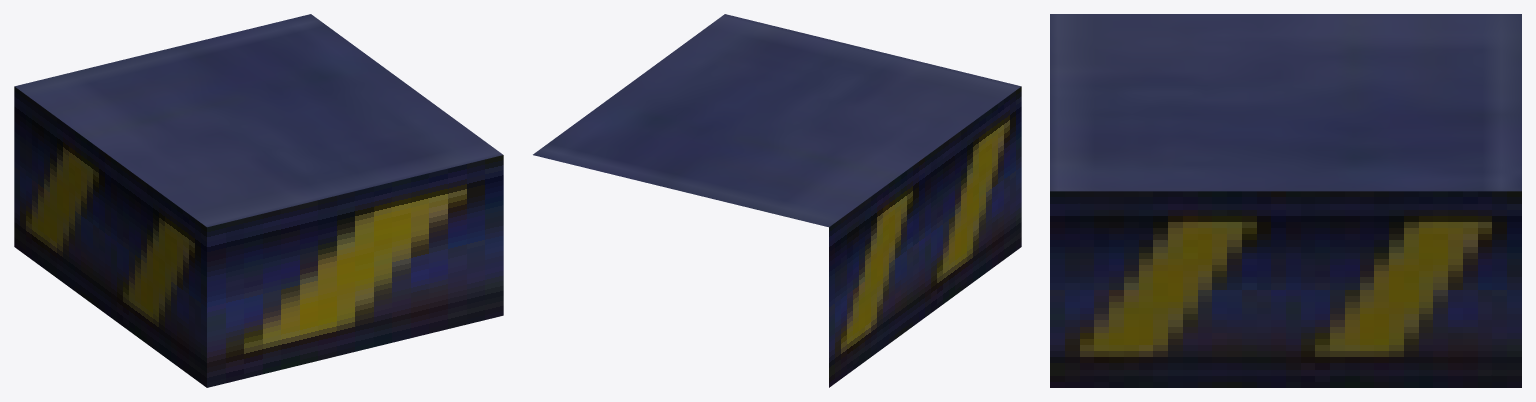
Rendered from toonblitz_block3.glb.
3 renders of one model, left to right at view 1: azimuth 30°, elevation 25°; view 2: azimuth 150°, elevation 25°; view 3: azimuth 270°, elevation 25°, orthographic. The views are drawn at different scales.
Parts seen in each view (by area): view 1: blocksides, blocktop; view 2: blocktop, blocksides; view 3: blocksides, blocktop.
Part boxes in pixels (box(x1,y1,x2,y2)): blocksides: box(14, 86, 503, 387); blocktop: box(15, 14, 502, 227); blocktop: box(533, 14, 1020, 227); blocksides: box(829, 86, 1021, 387); blocksides: box(1050, 191, 1521, 387); blocktop: box(1050, 14, 1521, 191).
Bounding box in the file's own units: 3 × 1.55 × 3.37.
Materials: 2 (2 with a texture image).
